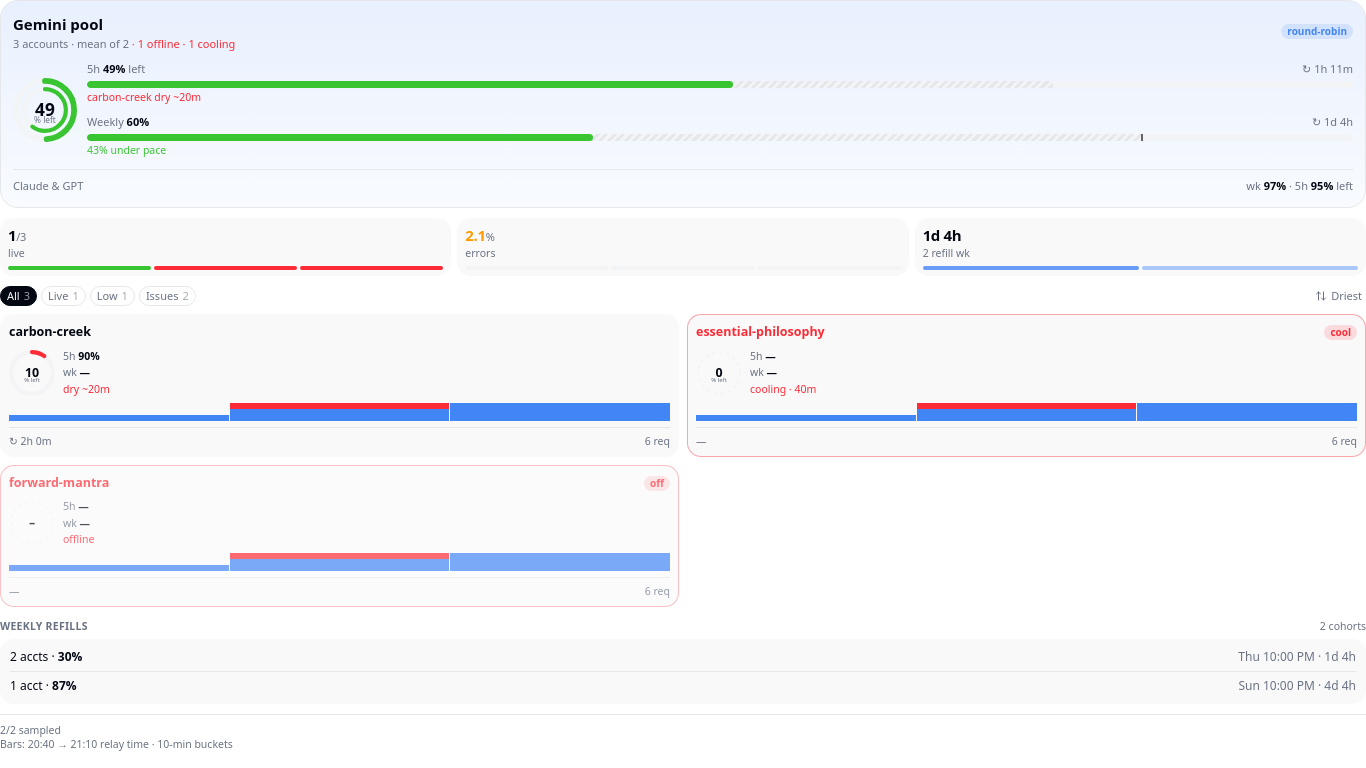
Test: PoolView › filters to issues and opens a sheet with every stat
Click the button "Issues2".
click(167, 296)  # box [139, 286, 196, 306]
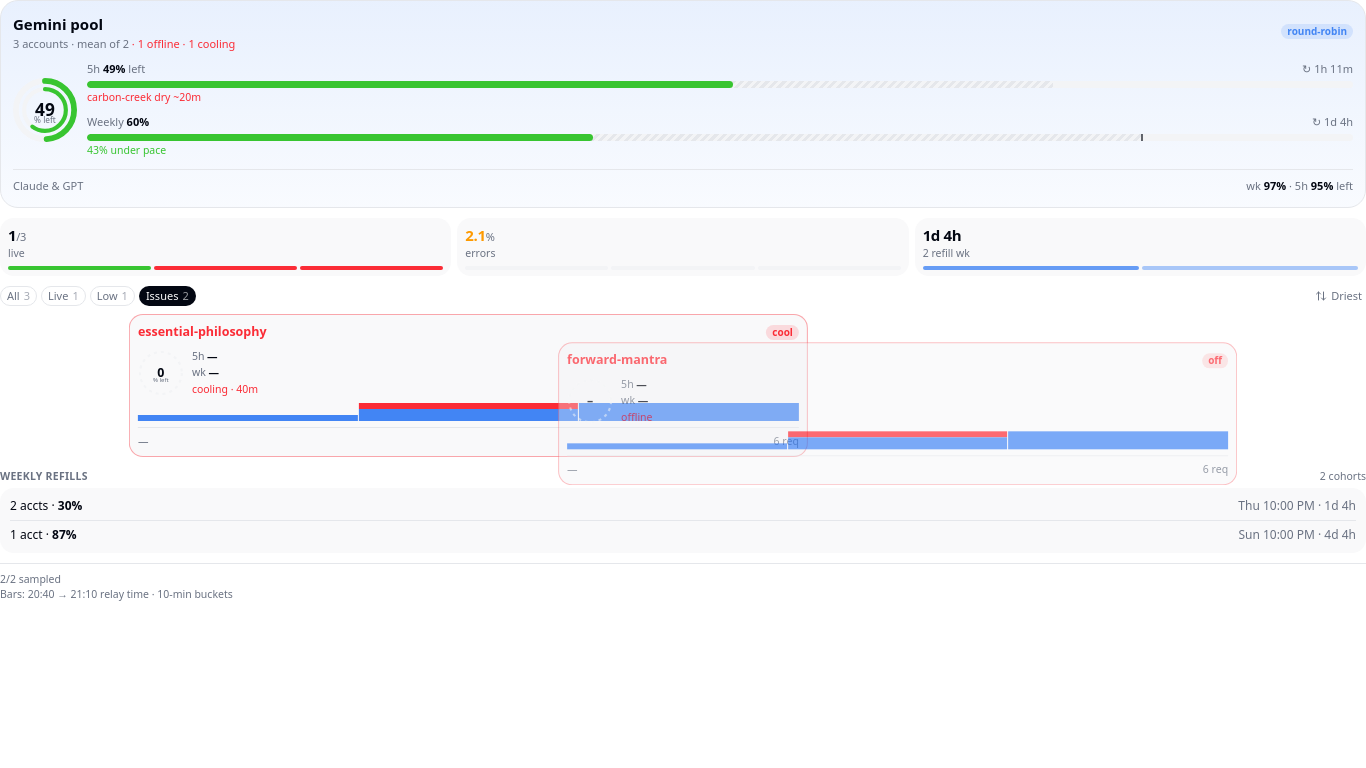
Click the button with aria-label "essential-philosophy details".
click(130, 332)  # box [56, 314, 735, 457]
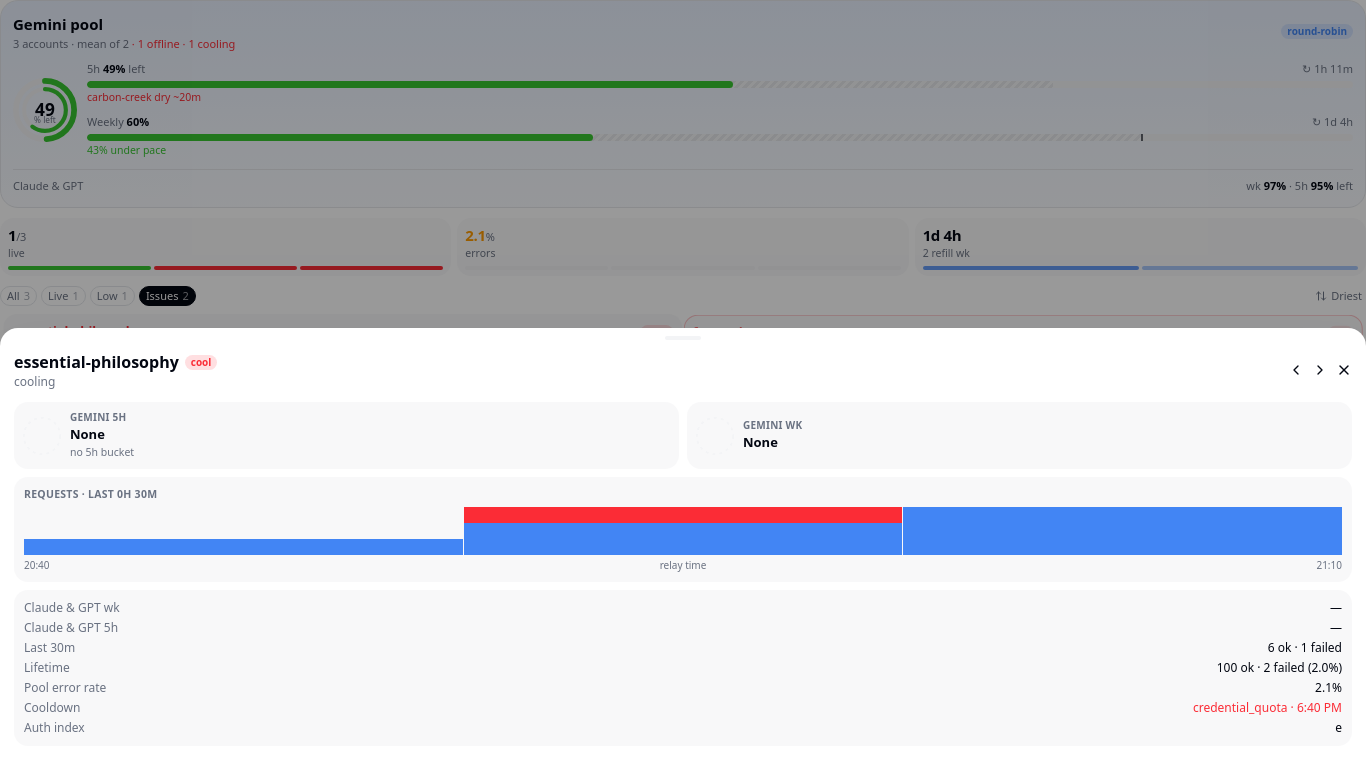
Expected: the text "Cooldown" is shown, [24, 699, 80, 716]
Expected: the text "credential_quota · 6:40 PM" is shown, [1193, 699, 1342, 716]
Press Arrowright
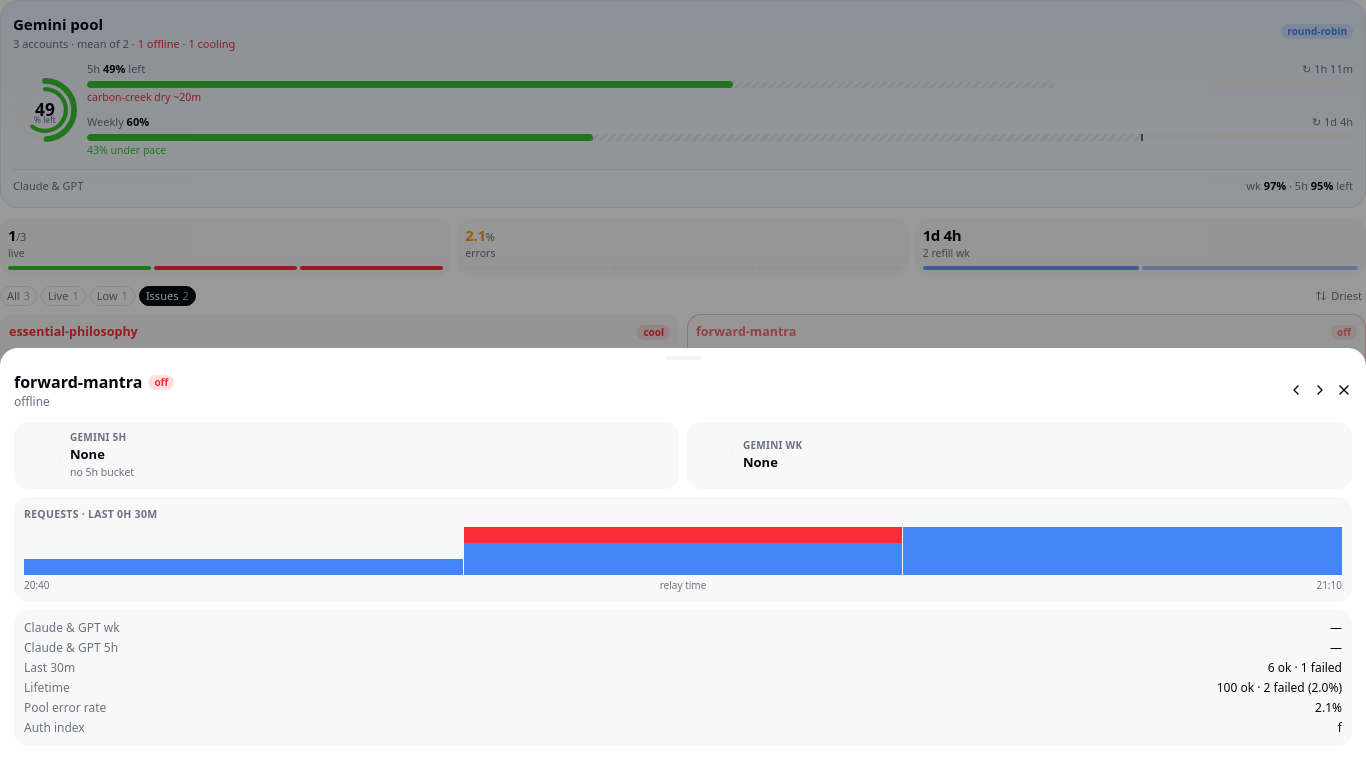
Expected: the dialog named "forward-mantra details" is shown, [0, 348, 1365, 767]
Press Escape
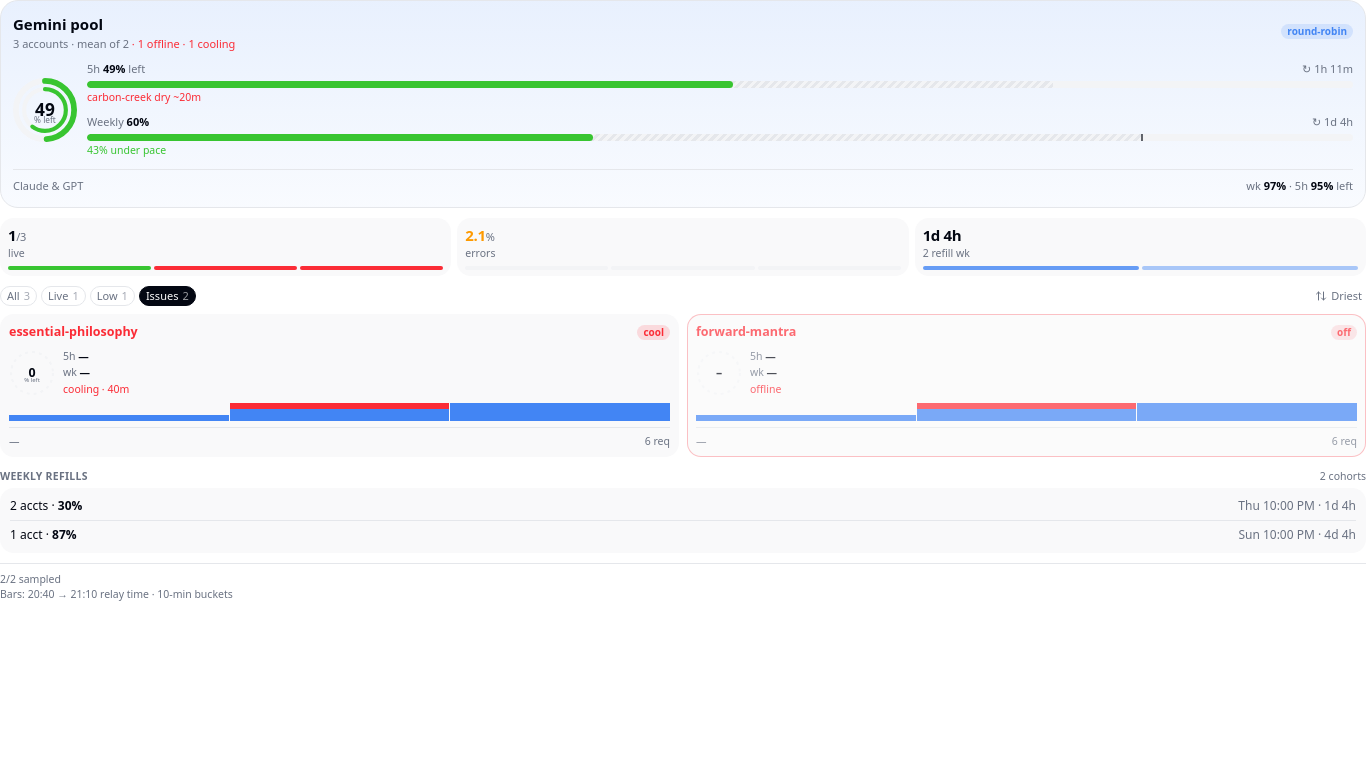
Expected: the dialog is gone
